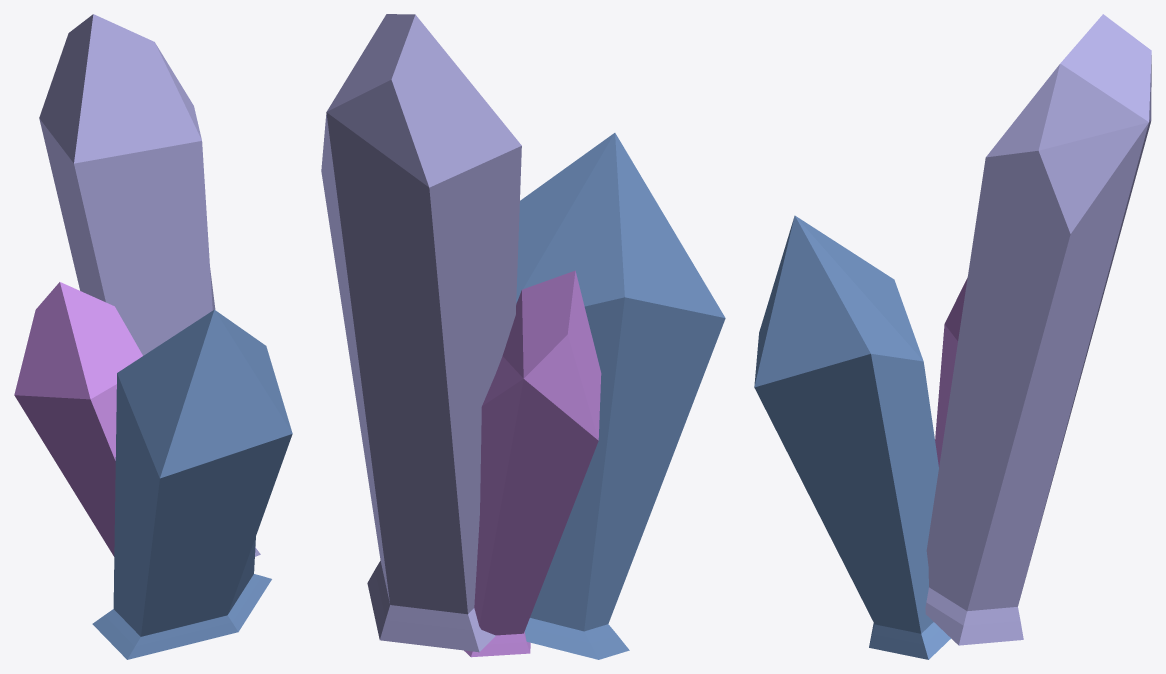
Rendered from Crystal_3.fbx.
The picture shows the model from 3 angles, left to right: view 1: azimuth 30°, elevation 25°; view 2: azimuth 150°, elevation 25°; view 3: azimuth 270°, elevation 25°; orthographic projection. The views are drawn at different scales.
Parts seen in each view (by area): view 1: Icosphere.001, Icosphere.002, Icosphere.003; view 2: Icosphere.002, Icosphere.001, Icosphere.003; view 3: Icosphere.002, Icosphere.001, Icosphere.003.
Boxes of the visible parts, x1,y1,x2,y2 form: Icosphere.001: [92, 309, 292, 659]; Icosphere.002: [39, 14, 260, 556]; Icosphere.003: [14, 282, 142, 556]; Icosphere.002: [321, 14, 521, 652]; Icosphere.001: [516, 133, 725, 659]; Icosphere.003: [464, 270, 601, 657]; Icosphere.002: [925, 14, 1151, 645]; Icosphere.001: [754, 215, 950, 659]; Icosphere.003: [935, 278, 967, 466].
Bounding box in the file's own units: 99.63 × 247 × 144.
